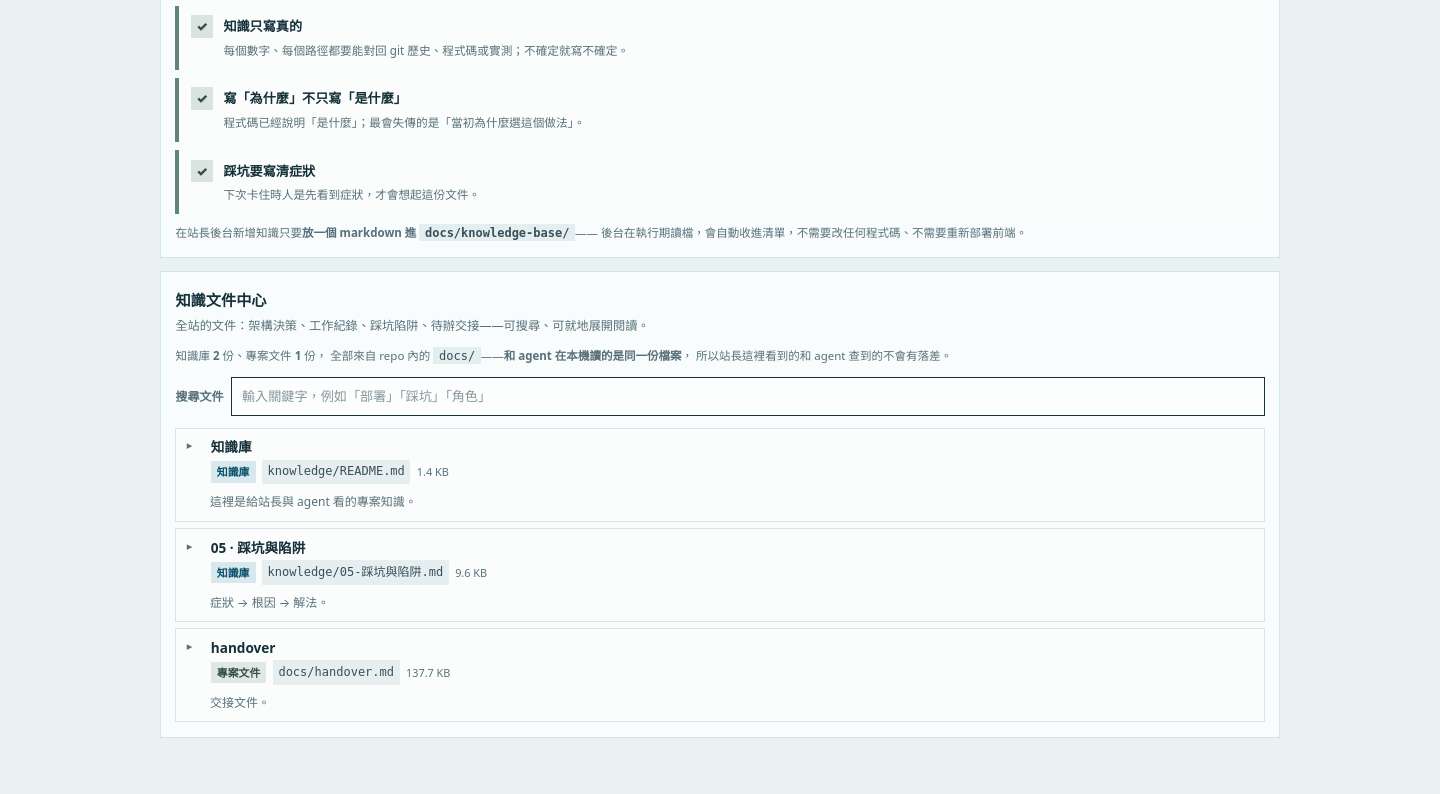
Test case: 站長後台：模組渲染（由註冊表驅動） › 知識文件中心列出知識庫與專案文件，並可展開閱讀
(page scrolled)
Expected: the text "knowledge/README.md" is shown, [262,460,410,484]
Expected: the button "▸ handover 專案文件 docs/handover.md 137.7 KB" is shown, [176,629,1264,694]
展開後應該看到 markdown 渲染出來的內容
Click the button "▸ 05 · 踩坑與陷阱 知識庫 knowledge/05-踩坑與陷阱.md 9.6 KB": click(258, 547) [176,529,1264,594]
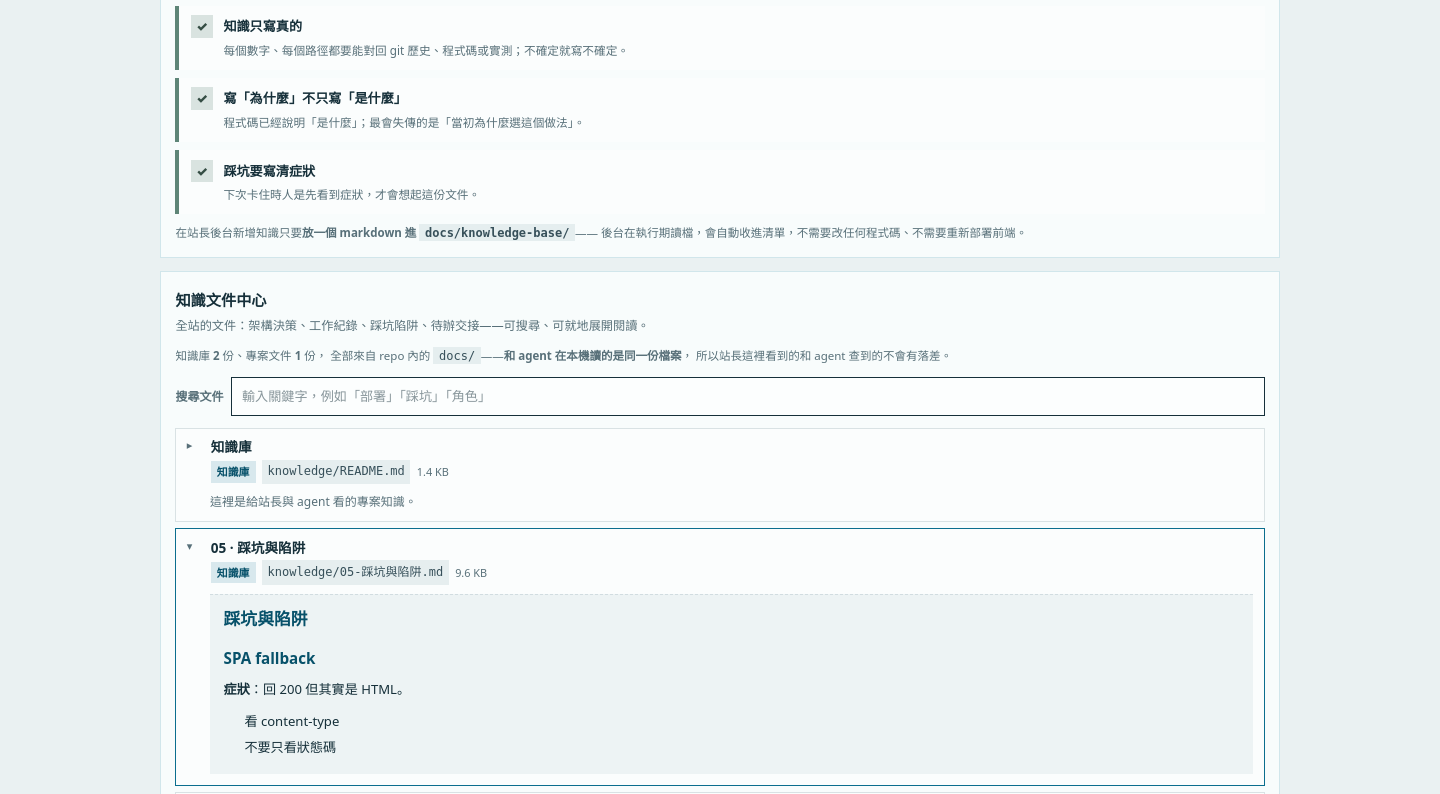
Now the heading "踩坑與陷阱" is shown, box [224,607,308,630]
Now the heading "SPA fallback" is shown, box [224,648,316,668]
